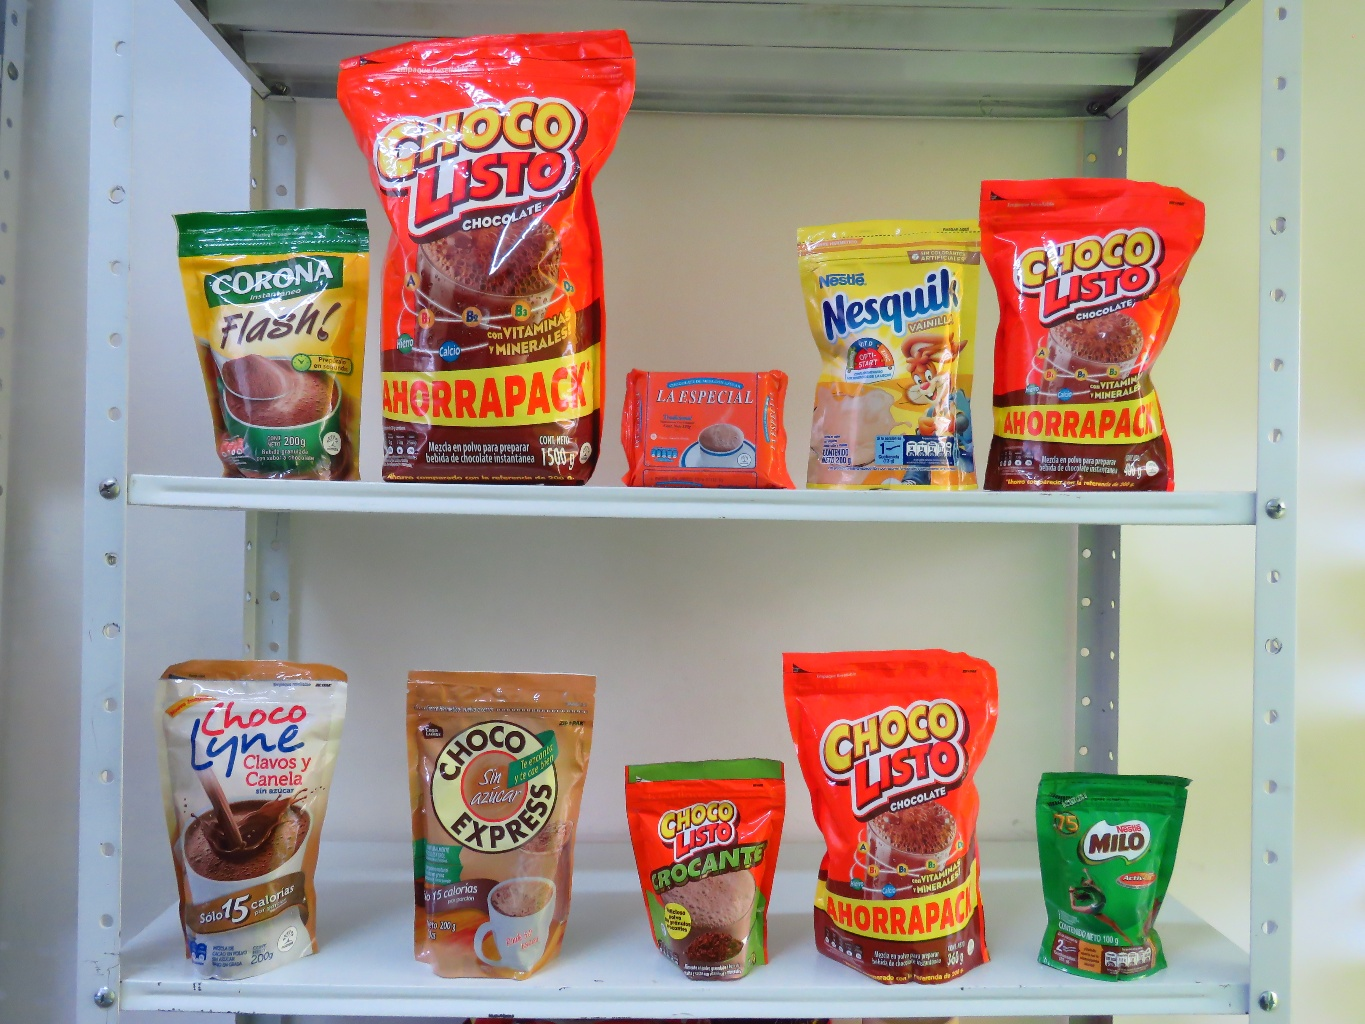COL0170102DYP10000: (605, 738, 813, 998)
COL0170103DYP1,500: (325, 11, 650, 499)
COL0170103DYP36000: (770, 645, 1013, 990)
COL0170103DYP40000: (964, 160, 1207, 497)
COL0170203DYP10000: (1015, 753, 1209, 989)
COL0170306DYP20000: (776, 205, 998, 504)
